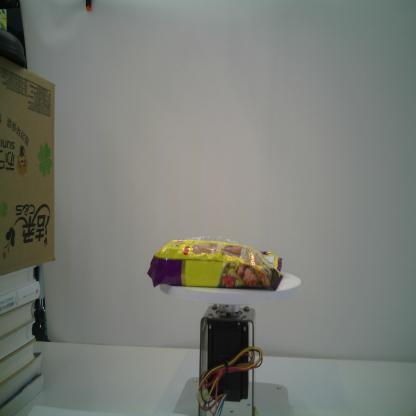Instant Noodles: (145, 234, 284, 292)
